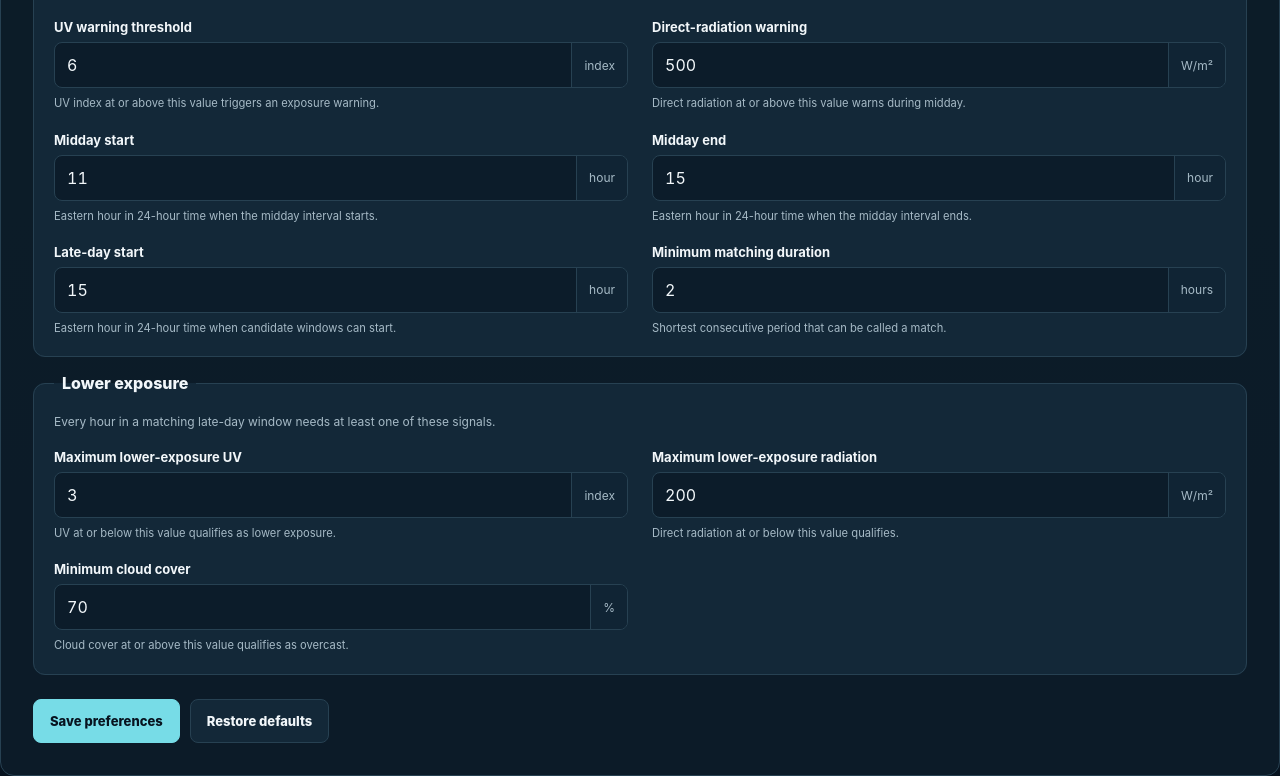
Test: ConfigPage › reports when browser persistence is unavailable
(page scrolled)
Click the button "Save preferences". click: (106, 720)
box: [33,698,180,742]
(page scrolled)
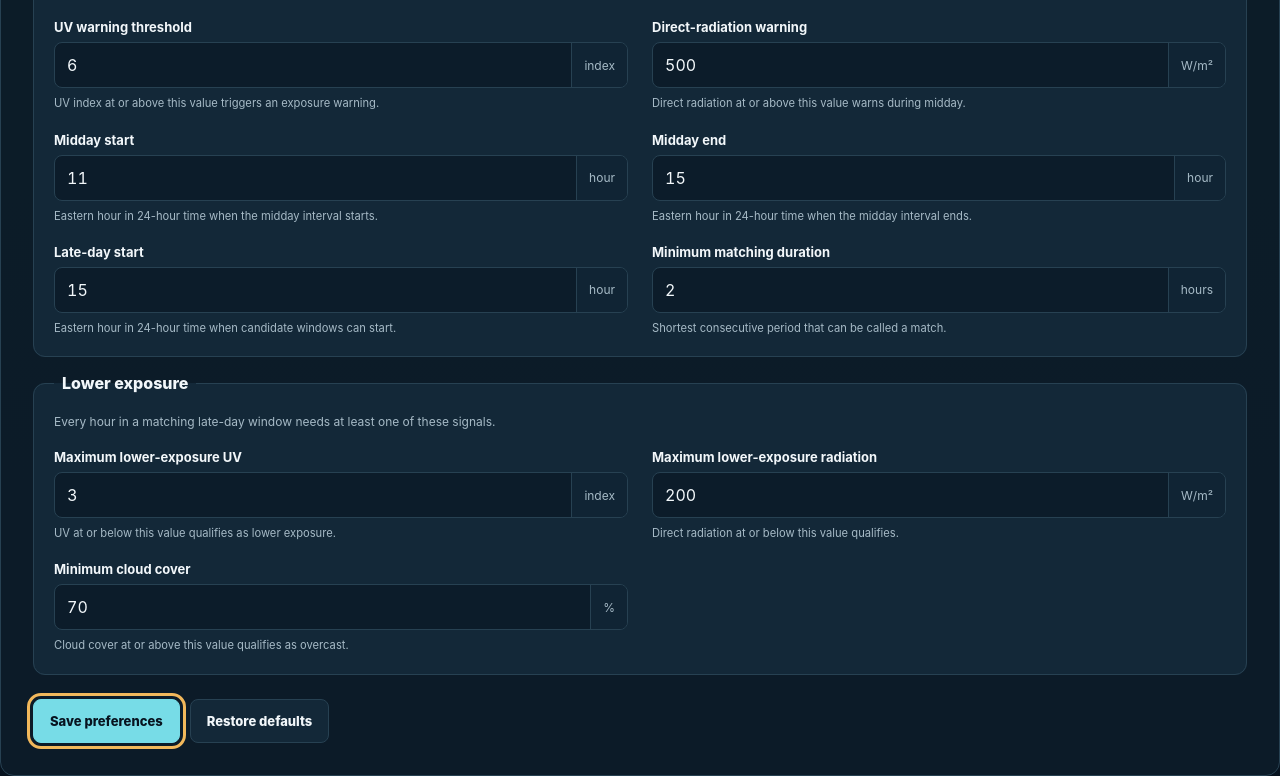
Click the button "Restore defaults". click: (260, 720)
box: [190,698,329,742]
(page scrolled)
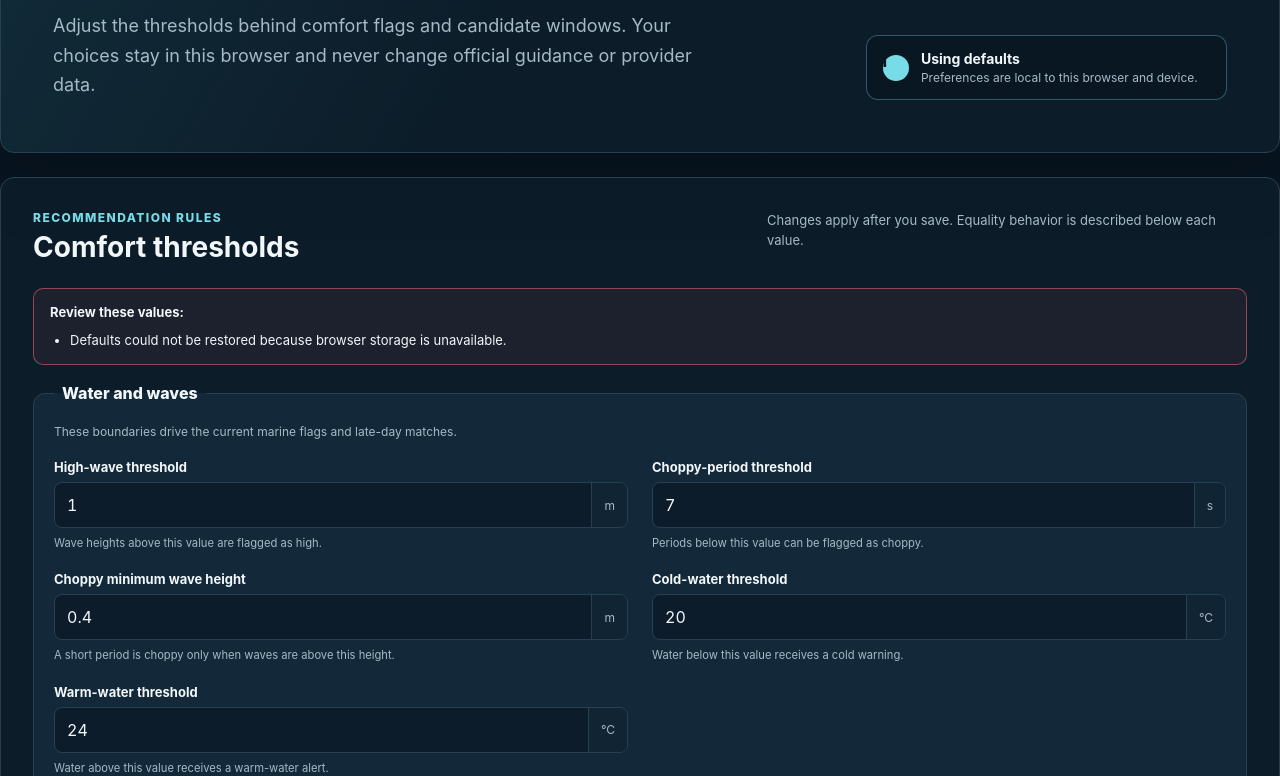
Expected: the message shows "browser storage is unavailable", [70,332,507,348]
